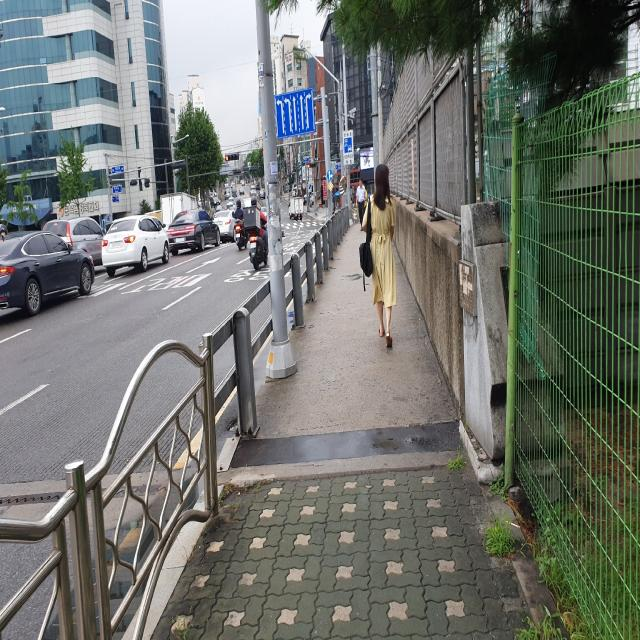car: (0, 230, 95, 315), (102, 216, 170, 277), (167, 209, 220, 256), (288, 197, 304, 221)
motorbike: (243, 205, 267, 270), (235, 219, 249, 252)
